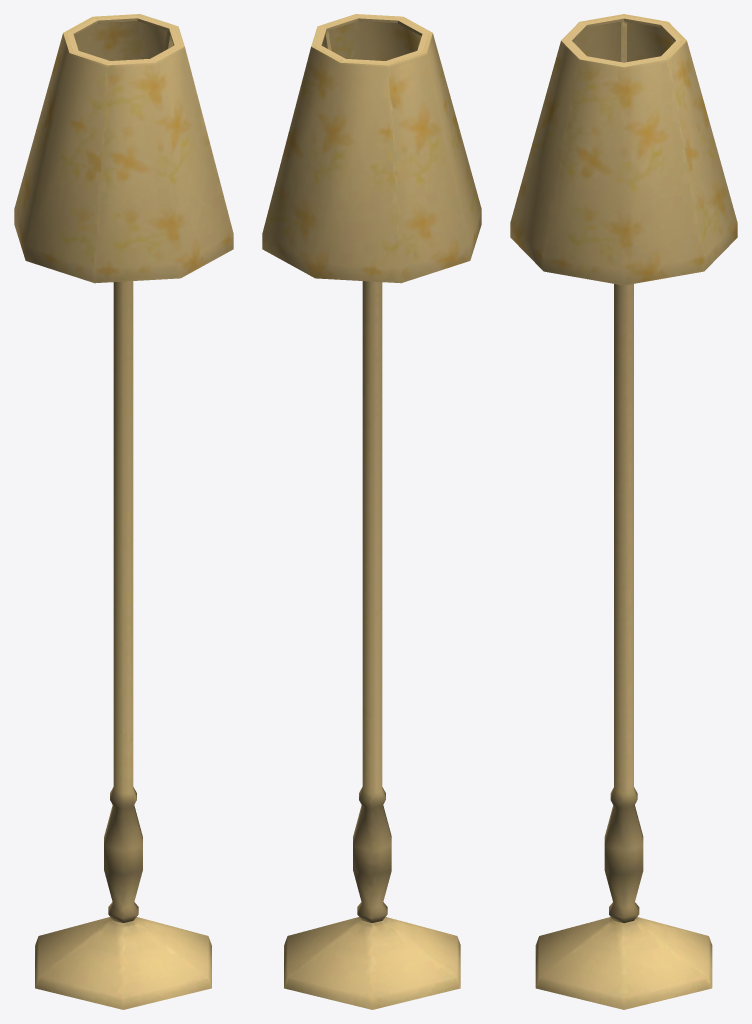
Rendered from furni_0200407.FBX.
The picture shows the model from 3 angles, left to right: view 1: azimuth 30°, elevation 25°; view 2: azimuth 150°, elevation 25°; view 3: azimuth 270°, elevation 25°; orthographic projection.
Parts seen in each view (by area): view 1: furni_0200407; view 2: furni_0200407; view 3: furni_0200407.
Part boxes in pixels (bbox=[...]): furni_0200407: bbox=[14, 14, 233, 1009]; furni_0200407: bbox=[262, 14, 481, 1009]; furni_0200407: bbox=[510, 14, 737, 1009].
Size of the model in its own units: 40.01 by 180 by 40.01.
Materials: 1 (1 with a texture image).
